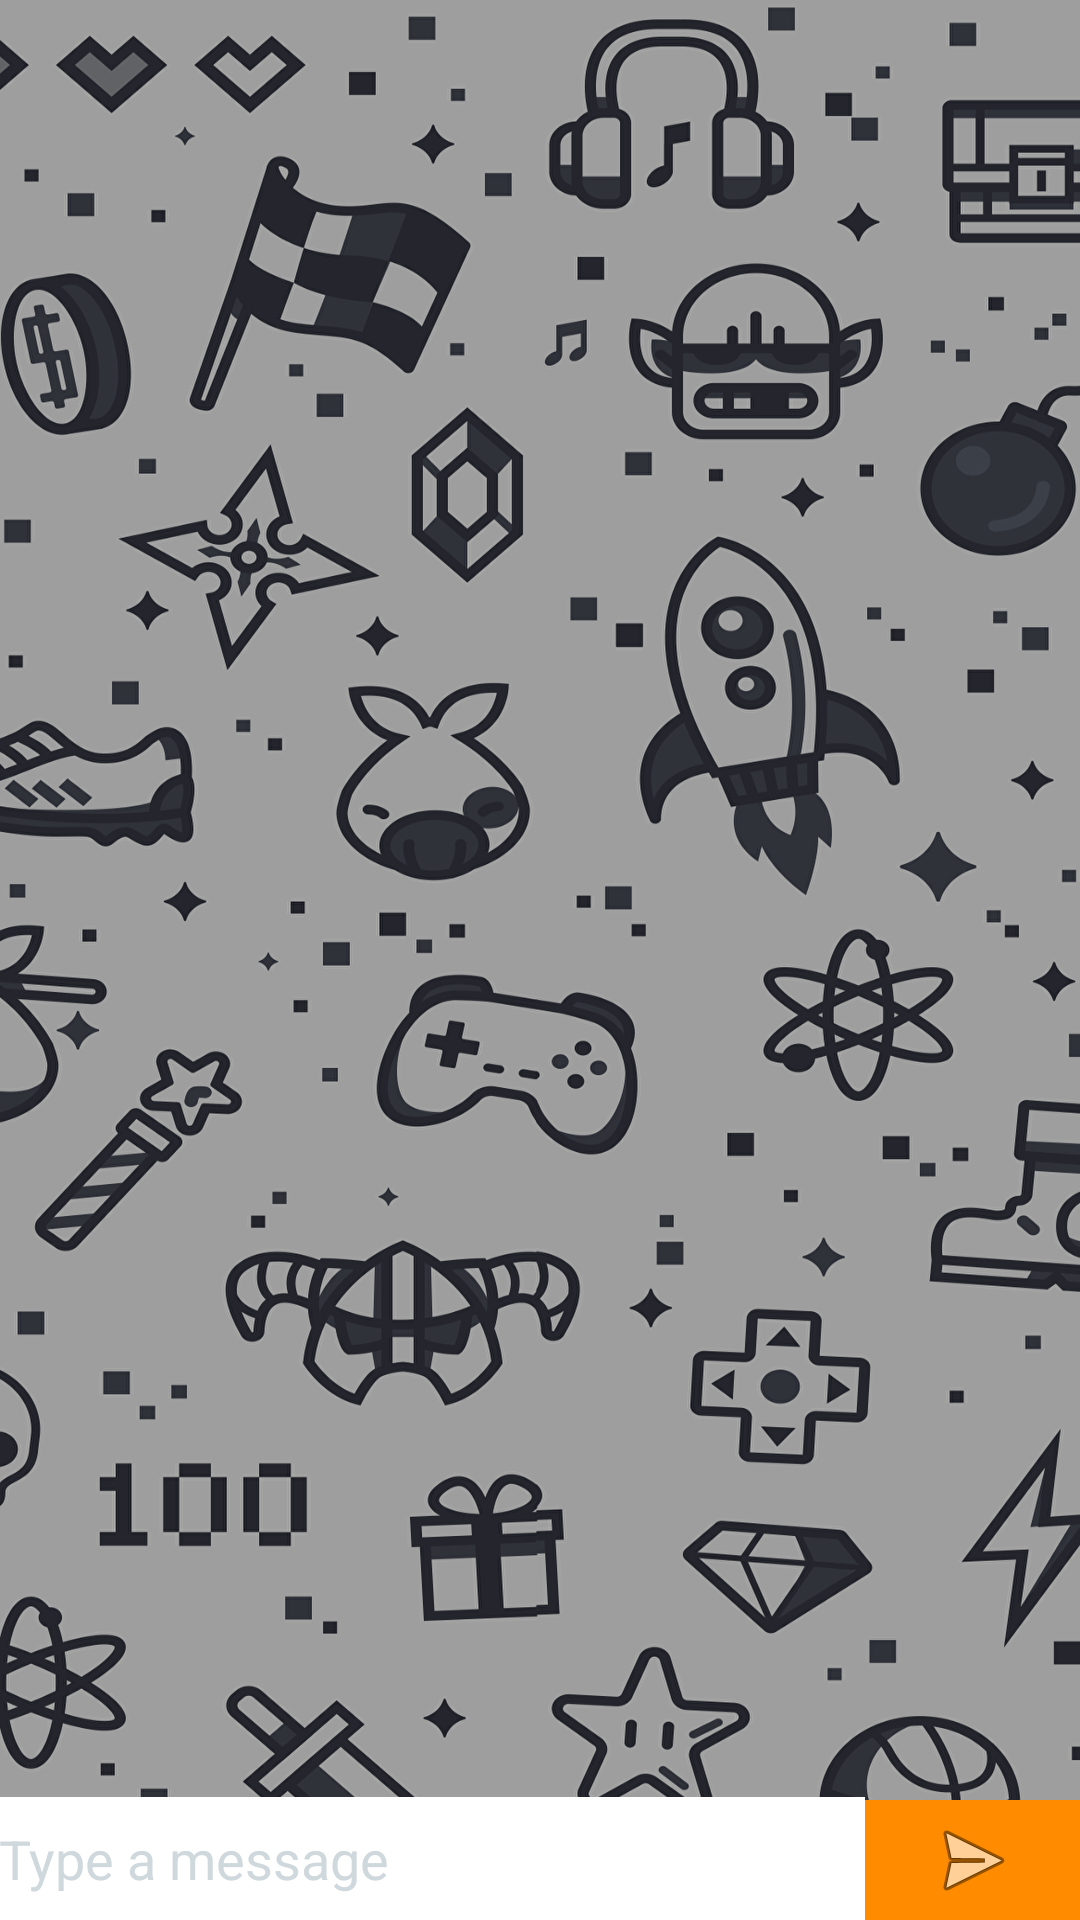

Where to tap for icons on this 1080x1920 app screen, as point (x, y):
send: point (972, 1860)
